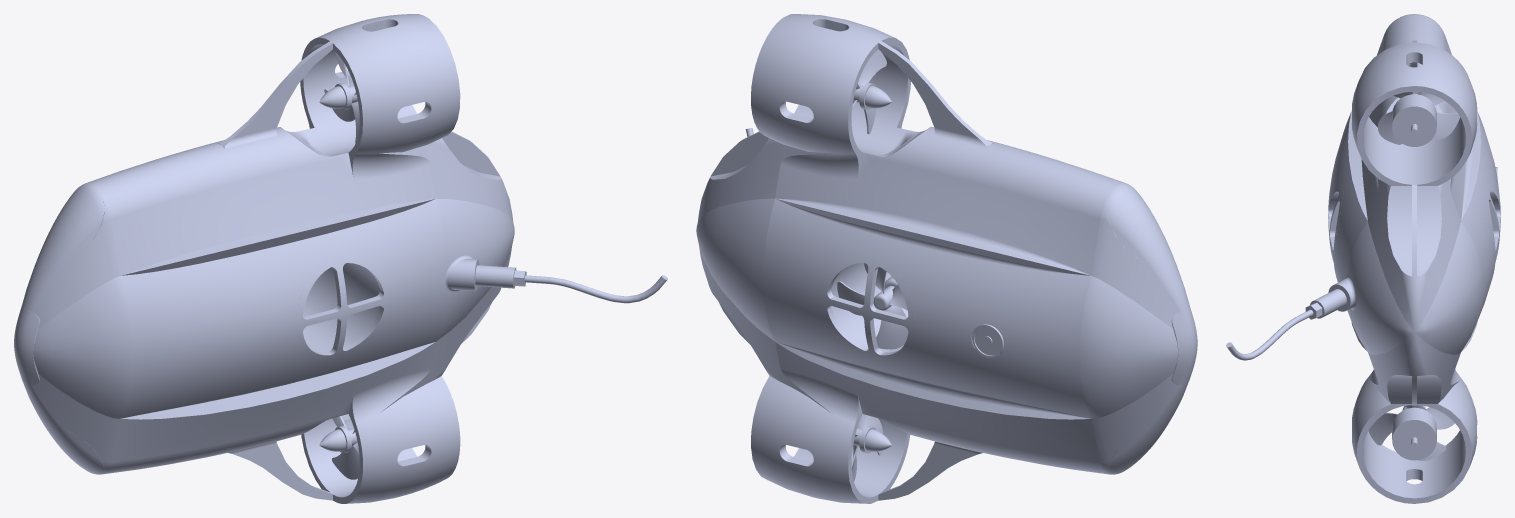
3 renders of one model, left to right at view 1: azimuth 30°, elevation 25°; view 2: azimuth 150°, elevation 25°; view 3: azimuth 270°, elevation 25°, orthographic. The views are drawn at different scales.
Parts seen in each view (by area): view 1: Body6, Body4, Body1, Body3, Body1:4, Body1:7, Body2; view 2: Body6, Body5, Body1, Body1:5, Body3, Body1:7, Body2, Body1:4, Body1:1; view 3: Body6, Body1:7, Body1:4, Body4, Body5.
Part boxes in pixels (box(x1,y1,x2,y2)): Body6: box(22, 14, 667, 503); Body4: box(296, 255, 390, 360); Body1: box(37, 183, 104, 268); Body3: box(14, 306, 39, 385); Body1:4: box(319, 416, 359, 479); Body1:7: box(319, 52, 359, 142); Body2: box(39, 416, 104, 474); Body6: box(696, 14, 1189, 503); Body5: box(820, 255, 914, 360); Body1: box(1107, 183, 1173, 267); Body1:5: box(837, 263, 908, 349); Body3: box(1171, 306, 1197, 385); Body1:7: box(852, 49, 891, 134); Body2: box(1107, 416, 1172, 474); Body1:4: box(851, 414, 891, 481); Body1:1: box(972, 324, 1003, 357); Body6: box(1226, 15, 1500, 503); Body1:7: box(1377, 91, 1459, 146); Body1:4: box(1368, 405, 1454, 460); Body4: box(1328, 185, 1343, 277); Body5: box(1486, 185, 1500, 273).
Bounding box in the file's own units: 90.46 × 73.47 × 42.86.
